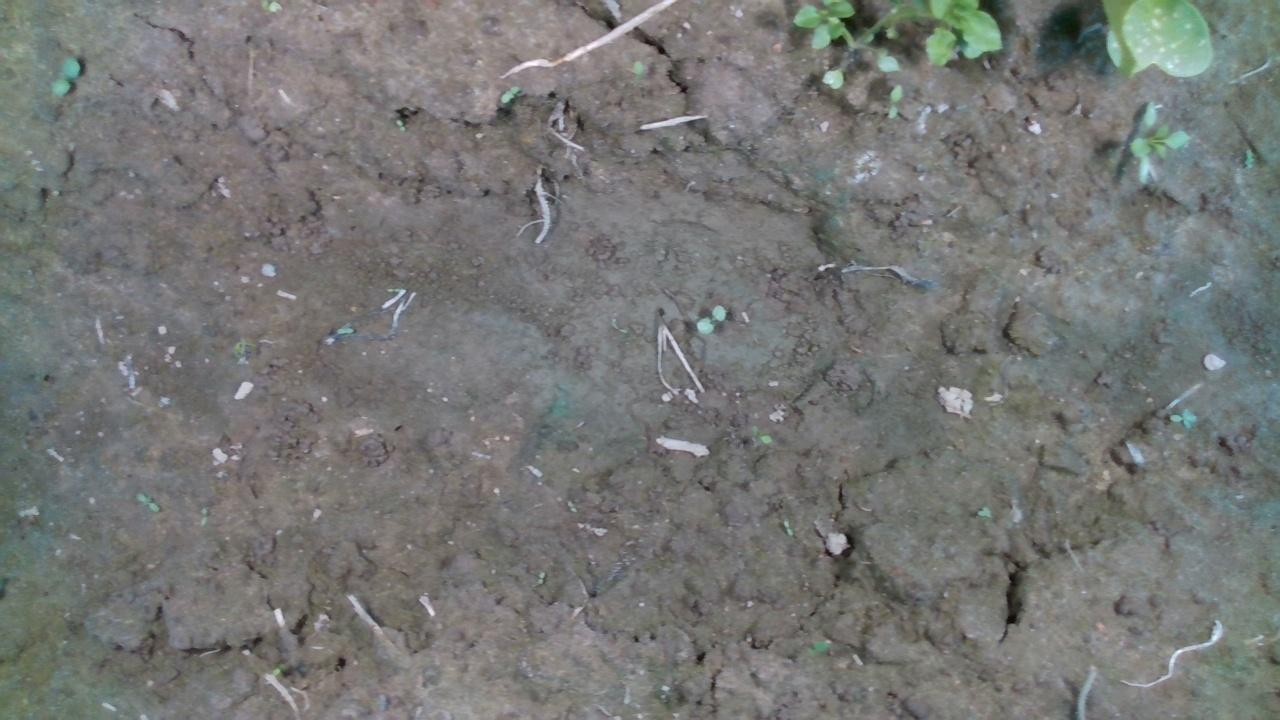weed: (33, 52, 79, 101), (688, 298, 729, 342)
